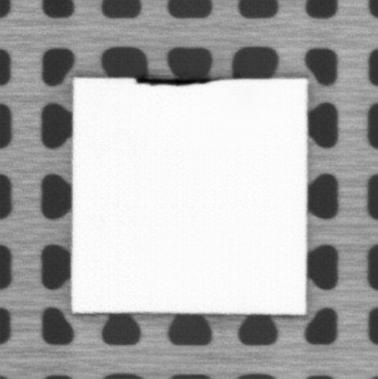DIE_BROKEN: (134, 74, 213, 86)
